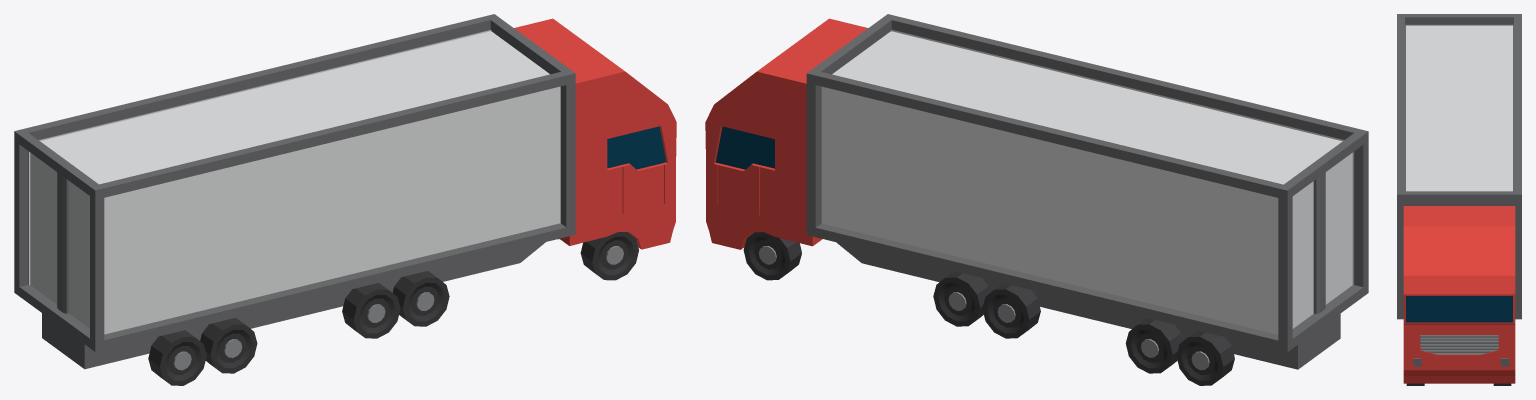
The model's file is Truck 2.fbx.
3 views of the same model, side by side, from view 1: azimuth 30°, elevation 25°; view 2: azimuth 150°, elevation 25°; view 3: azimuth 270°, elevation 25° (orthographic). The views are drawn at different scales.
Parts seen in each view (by area): view 1: Truck_2; view 2: Truck_2; view 3: Truck_2.
Boxes of the visible parts, left/top/right/bottom form: Truck_2: left=14, top=14, right=676, bottom=385; Truck_2: left=705, top=14, right=1368, bottom=385; Truck_2: left=1397, top=14, right=1521, bottom=385.
Size of the model in its own units: 1035 by 376 by 248.
